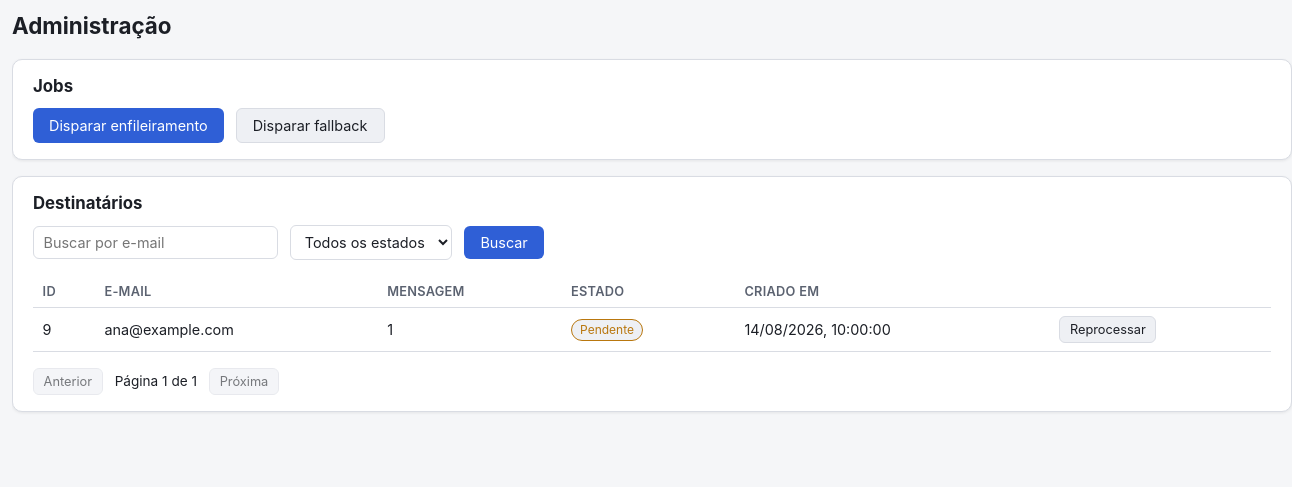
Test: Admin page › states plainly that a job is already running instead of showing a failure
Click the button "Disparar enfileiramento".
click(128, 126)  # box [33, 108, 224, 143]
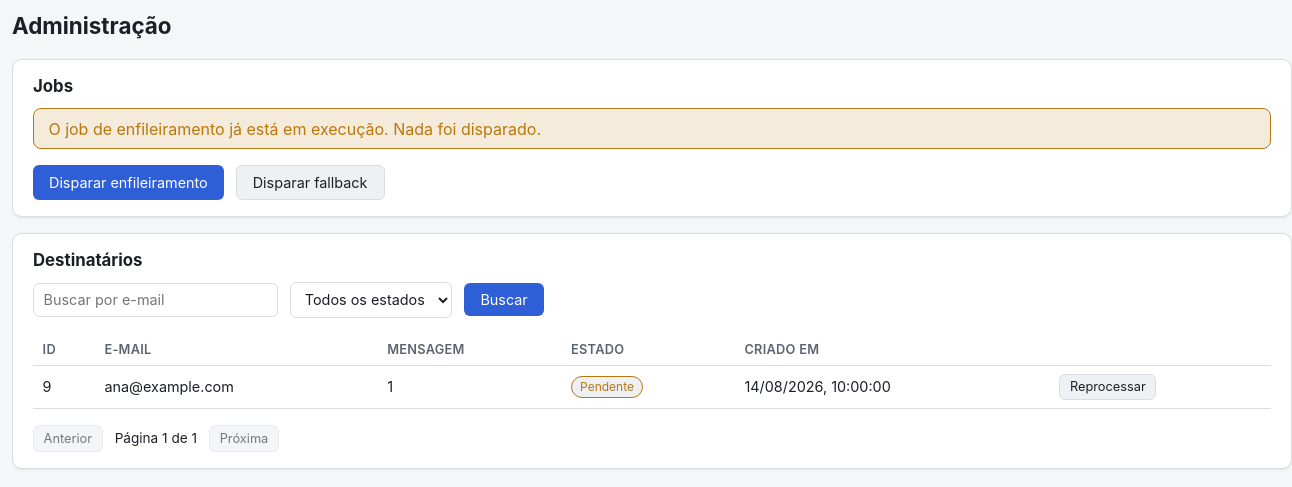
Expected: the text "já está em execução" is shown, [48, 119, 541, 139]
